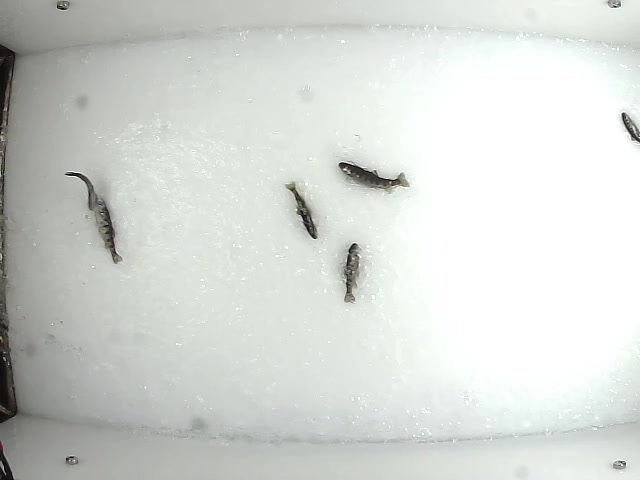fish: (336, 160, 412, 195), (93, 197, 124, 269), (284, 178, 318, 242), (64, 171, 98, 215), (341, 241, 362, 304)
